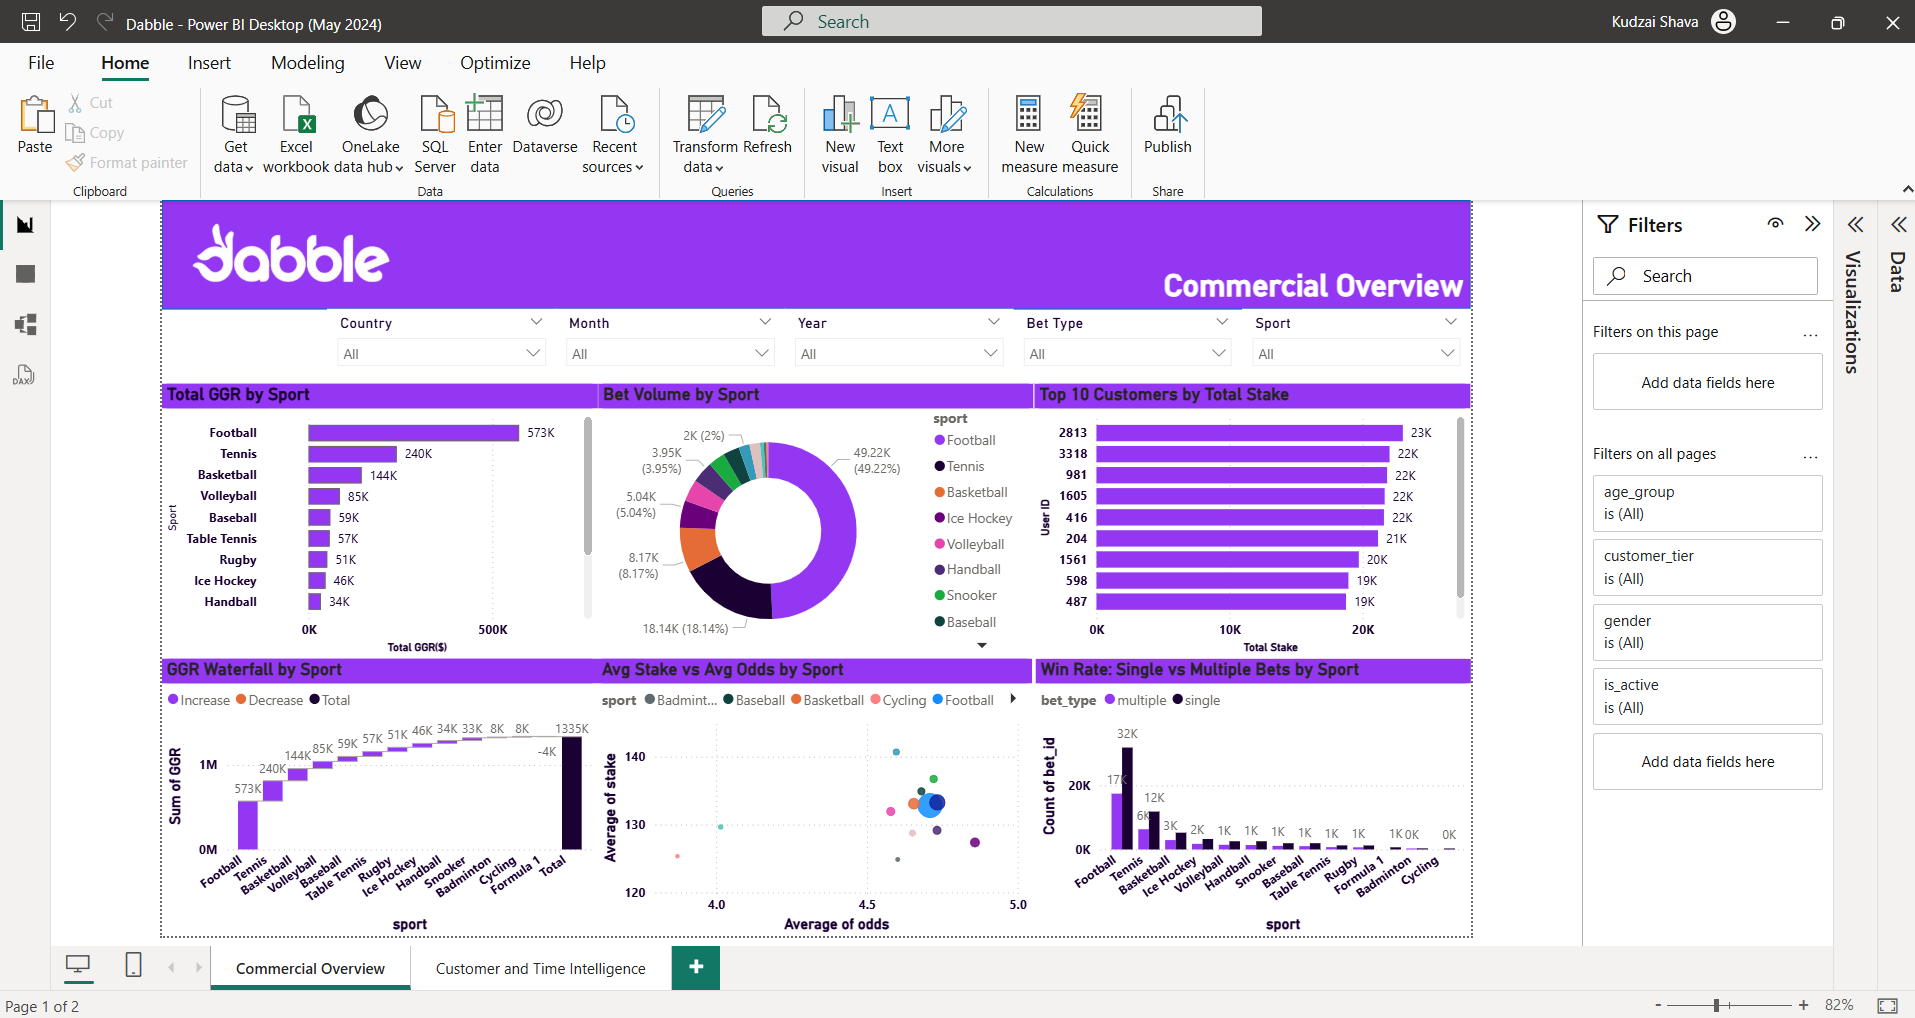

The dashboard page shown, as its layout file describes it:
{"tool":"powerbi","page":{"name":"Commercial Overview","canvas":[1280,720],"ordinal":0},"visuals":[{"type":"slicer","fields":{"Values":["bets.bet_type"]},"box":[833,106.8,223.6,72.9],"z":0},{"type":"shape","box":[0,0,1280.3,107],"z":1000},{"type":"image","box":[0,0,262.1,107],"z":2000},{"type":"slicer","fields":{"Values":["bets.sport"]},"box":[1056.6,106.8,223.6,72.9],"z":3000},{"type":"clusteredBarChart","title":"Total GGR by Sport","fields":{"Category":["bets.sport"],"Y":["All_Measures.Total GGR"]},"box":[0,179.7,426,268.9],"z":4000},{"type":"waterfallChart","title":"GGR Waterfall by Sport","fields":{"Category":["bets.sport"],"Y":["Sum(bets.GGR)"]},"box":[0,448.3,425.8,272.3],"z":4001},{"type":"donutChart","title":"Bet Volume by Sport","fields":{"Category":["bets.sport"],"Y":["CountNonNull(bets.bet_id)"]},"box":[427.2,179.7,425.9,268.9],"z":4002},{"type":"scatterChart","title":"Avg Stake vs Avg Odds by Sport","fields":{"X":["Avg(bets.odds)"],"Y":["Avg(bets.stake)"],"Size":["CountNonNull(bets.bet_id)"],"Series":["bets.sport"]},"box":[425.8,448.3,425.8,272.3],"z":4003},{"type":"clusteredColumnChart","title":"Win Rate: Single vs Multiple Bets by Sport","fields":{"Category":["bets.sport"],"Y":["CountNonNull(bets.bet_id)"],"Series":["bets.bet_type"]},"box":[854.5,448.3,425.8,272.3],"z":4004},{"type":"barChart","title":"Top 10 Customers by Total Stake","fields":{"Category":["bets.user_id"],"Y":["Sum(bets.stake)"]},"box":[853.1,179.7,426,268.9],"z":4005},{"type":"slicer","fields":{"Values":["dim_date.date.Variation.Date Hierarchy.Year"]},"box":[609.3,106.8,224.2,72.2],"z":4006},{"type":"slicer","fields":{"Values":["dim_date.date.Variation.Date Hierarchy.Month"]},"box":[385.1,106.8,224.2,72.2],"z":4007},{"type":"slicer","fields":{"Values":["dim_users.country"]},"box":[161,106.8,224.2,72.2],"z":4008},{"type":"textbox","title":"Commercial Overview","box":[767.3,66.2,511.5,40.6],"z":4009}]}

Visuals, with their boxes on the page's 1280x720 design canvas (x1, y1, x2, y2). These are canvas units, not pixel positions in the 1915x1018 screenshot, which may show the page scaled, cropped or inside an application window:
slicer - bets.bet_type: [x1=833, y1=107, x2=1057, y2=180]
shape: [x1=0, y1=0, x2=1280, y2=107]
image: [x1=0, y1=0, x2=262, y2=107]
slicer - bets.sport: [x1=1057, y1=107, x2=1280, y2=180]
"Total GGR by Sport" clusteredBarChart: [x1=0, y1=180, x2=426, y2=449]
"GGR Waterfall by Sport" waterfallChart: [x1=0, y1=448, x2=426, y2=721]
"Bet Volume by Sport" donutChart: [x1=427, y1=180, x2=853, y2=449]
"Avg Stake vs Avg Odds by Sport" scatterChart: [x1=426, y1=448, x2=852, y2=721]
"Win Rate: Single vs Multiple Bets by Sport" clusteredColumnChart: [x1=854, y1=448, x2=1280, y2=721]
"Top 10 Customers by Total Stake" barChart: [x1=853, y1=180, x2=1279, y2=449]
slicer - dim_date.date.Variation.Date Hierarchy.Year: [x1=609, y1=107, x2=834, y2=179]
slicer - dim_date.date.Variation.Date Hierarchy.Month: [x1=385, y1=107, x2=609, y2=179]
slicer - dim_users.country: [x1=161, y1=107, x2=385, y2=179]
"Commercial Overview" textbox: [x1=767, y1=66, x2=1279, y2=107]
